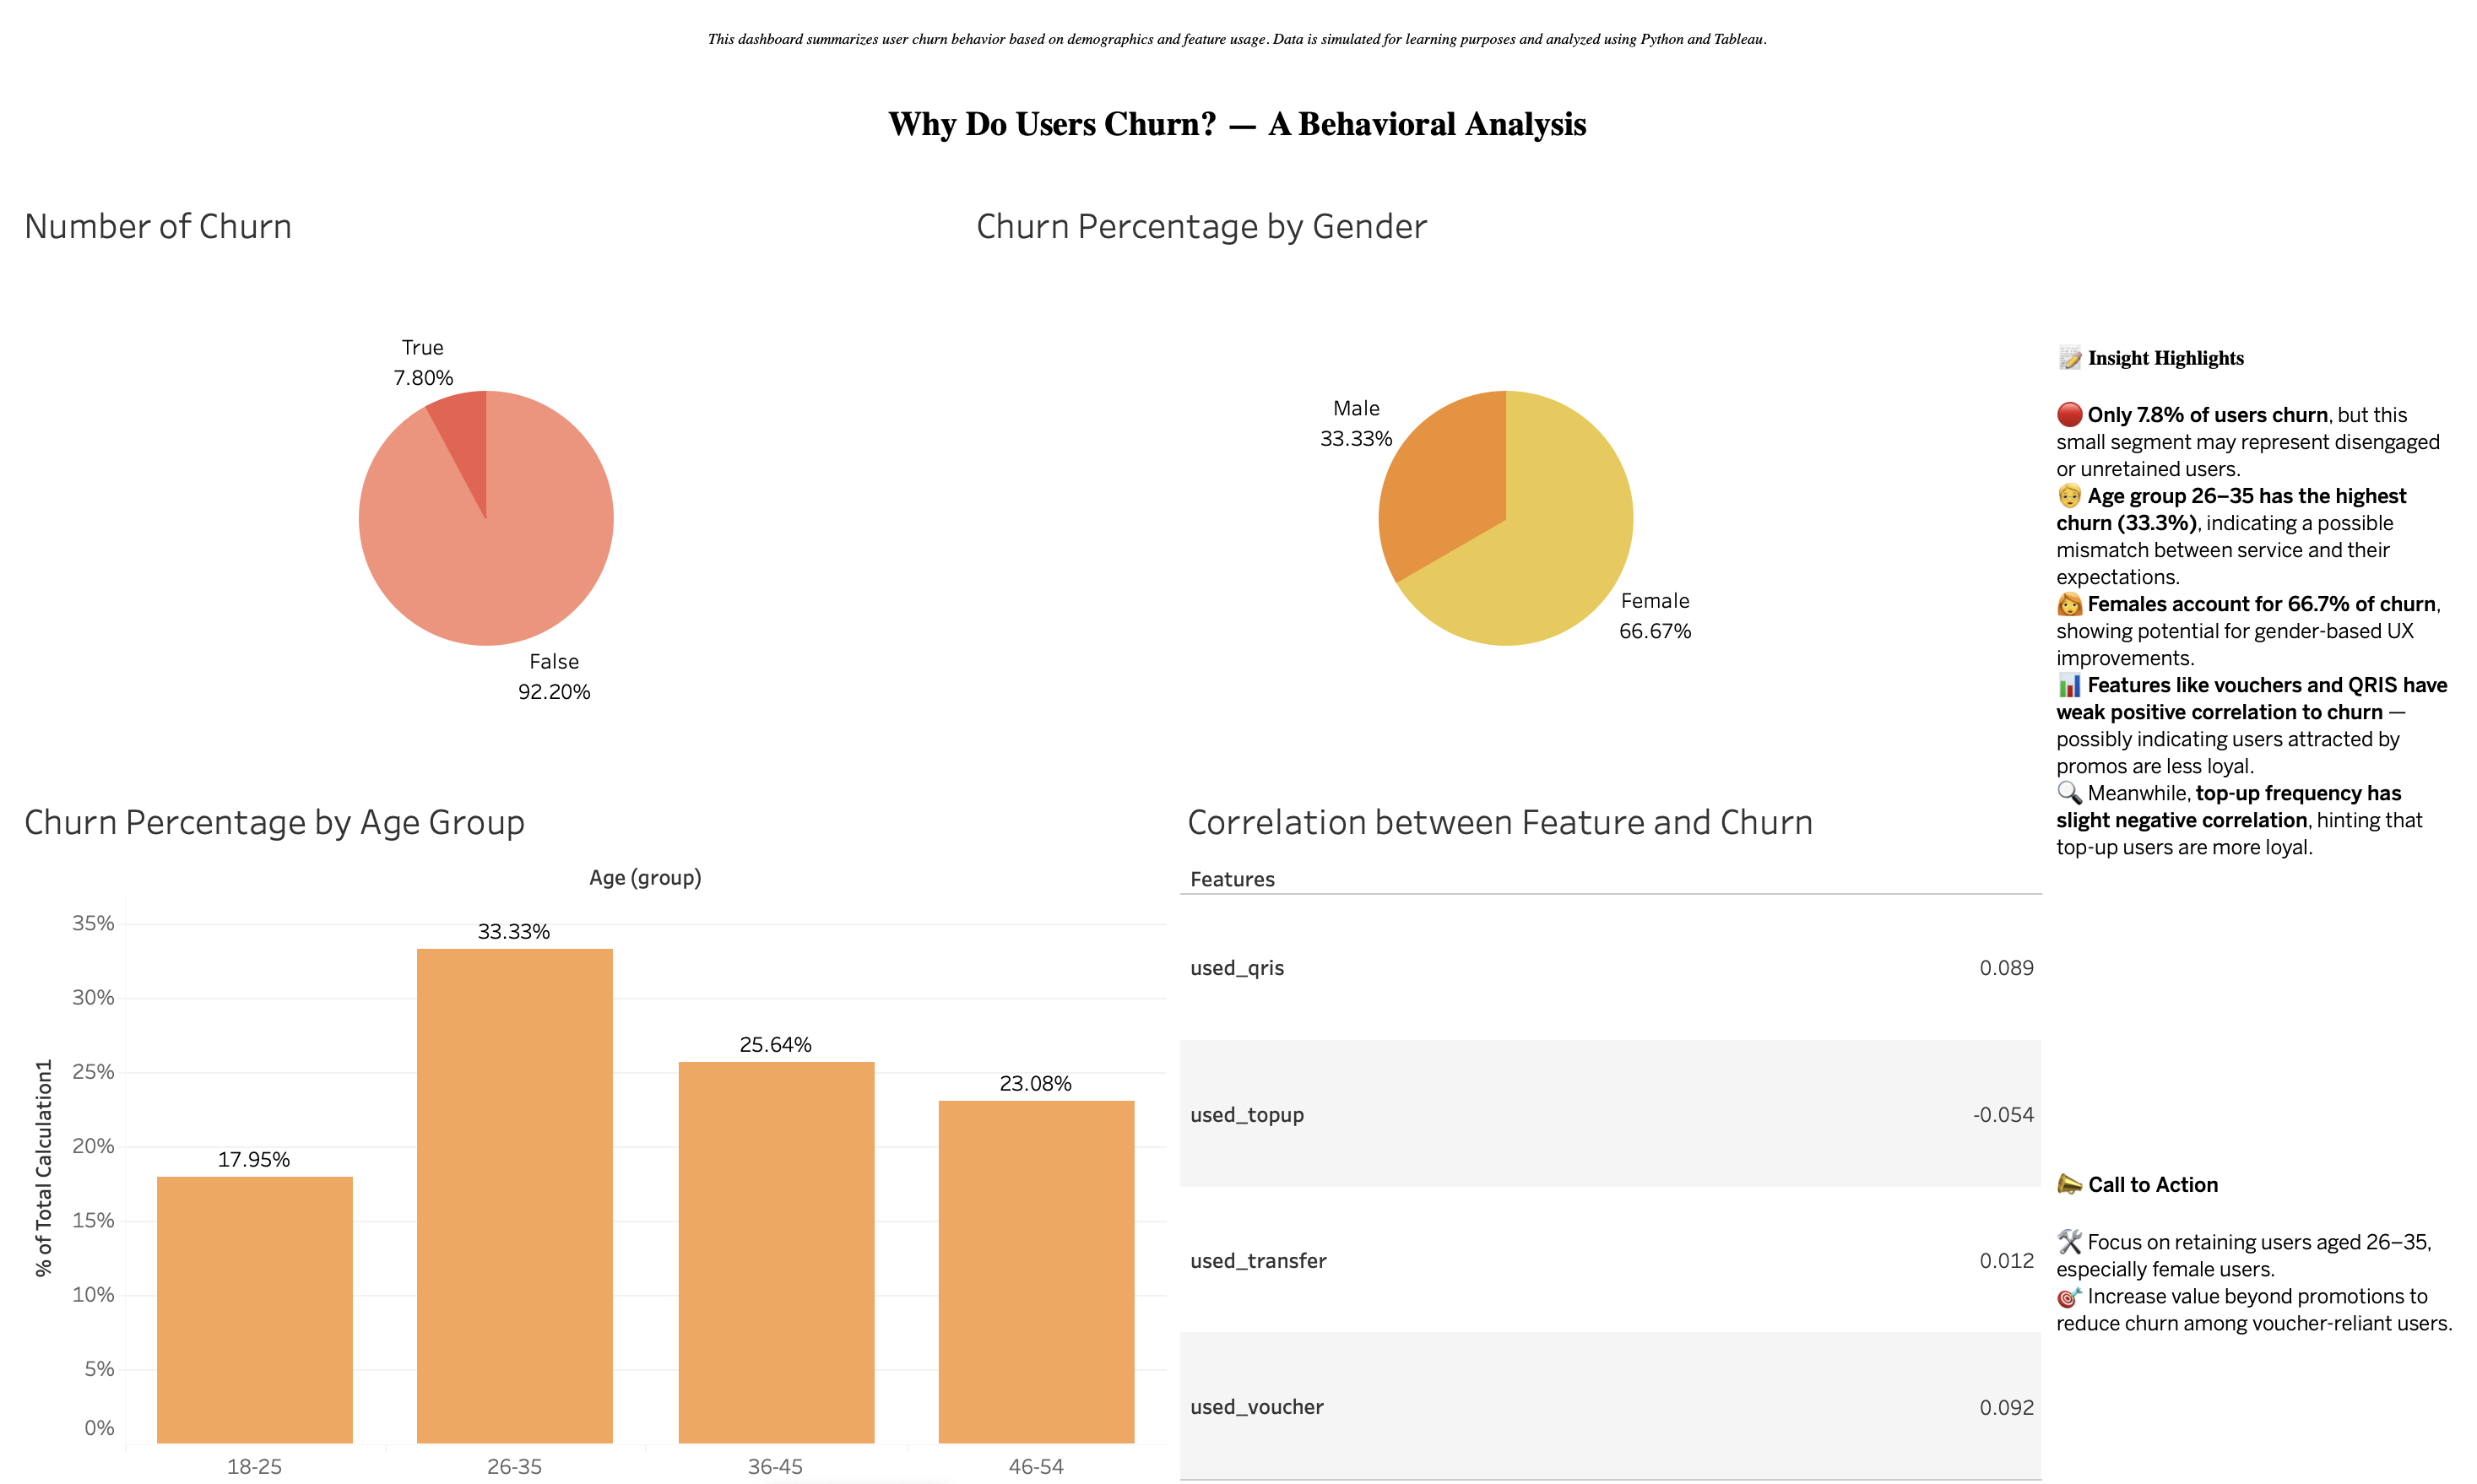

What the dashboard file says about the page in this screenshot:
{"tool":"tableau","page":{"name":"Dashboard 1","canvas":[1000,1000],"units":"permille","ordinal":0},"visuals":[{"type":"text","box":[6.4,11.6,987.3,75.5]},{"type":"worksheet","title":"Sheet 1","mark":"Pie","box":[6.4,87.1,382.9,412.2]},{"type":"worksheet","title":"Sheet 2","mark":"Pie","box":[389.2,87.1,437.7,412.2]},{"type":"text","box":[826.9,87.1,166.8,579.1]},{"type":"worksheet","title":"Sheet 3","mark":"Automatic","box":[6.4,499.3,467.8,489.1]},{"type":"worksheet","title":"Sheet 4","mark":"Automatic","rows":["Fitur"],"box":[474.2,499.3,352.7,489.1]},{"type":"text","box":[826.9,666.2,166.8,322.2]}]}

Visuals, with their boxes on the dashboard's canvas, which has no fixed pixel size, in thousandths of its width and height (x1, y1, x2, y2). These are canvas units, not pixel positions in the 2477x1484 screenshot, which may show the page scaled, cropped or inside an application window:
text: x1=6, y1=12, x2=994, y2=87
"Sheet 1" worksheet (Pie marks): x1=6, y1=87, x2=389, y2=499
"Sheet 2" worksheet (Pie marks): x1=389, y1=87, x2=827, y2=499
text: x1=827, y1=87, x2=994, y2=666
"Sheet 3" worksheet: x1=6, y1=499, x2=474, y2=988
"Sheet 4" worksheet: x1=474, y1=499, x2=827, y2=988
text: x1=827, y1=666, x2=994, y2=988
